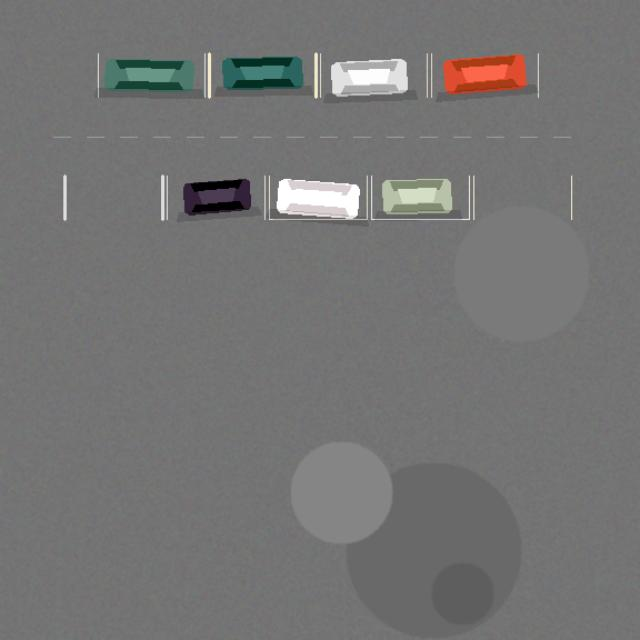space-empty: (64, 176, 162, 219), (473, 176, 571, 219)
space-occupied: (209, 53, 316, 97), (320, 53, 427, 97), (431, 53, 538, 97), (98, 53, 204, 97), (269, 176, 367, 219), (371, 176, 469, 219), (167, 176, 264, 219)
